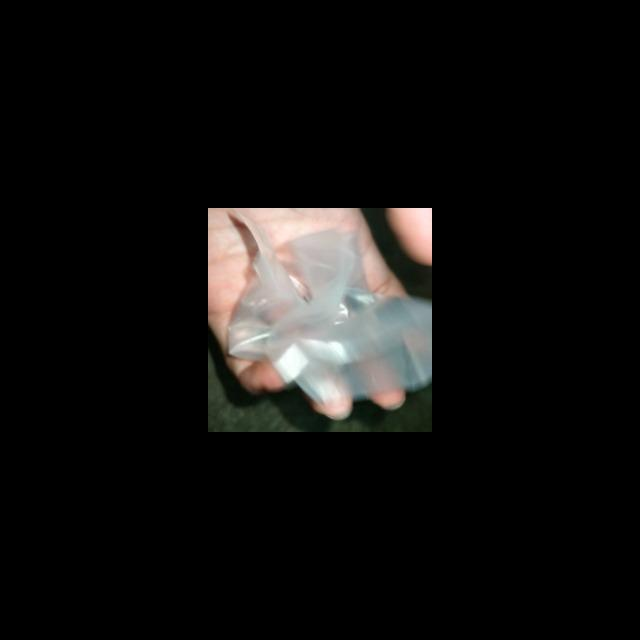plastic: (230, 232, 432, 399)
